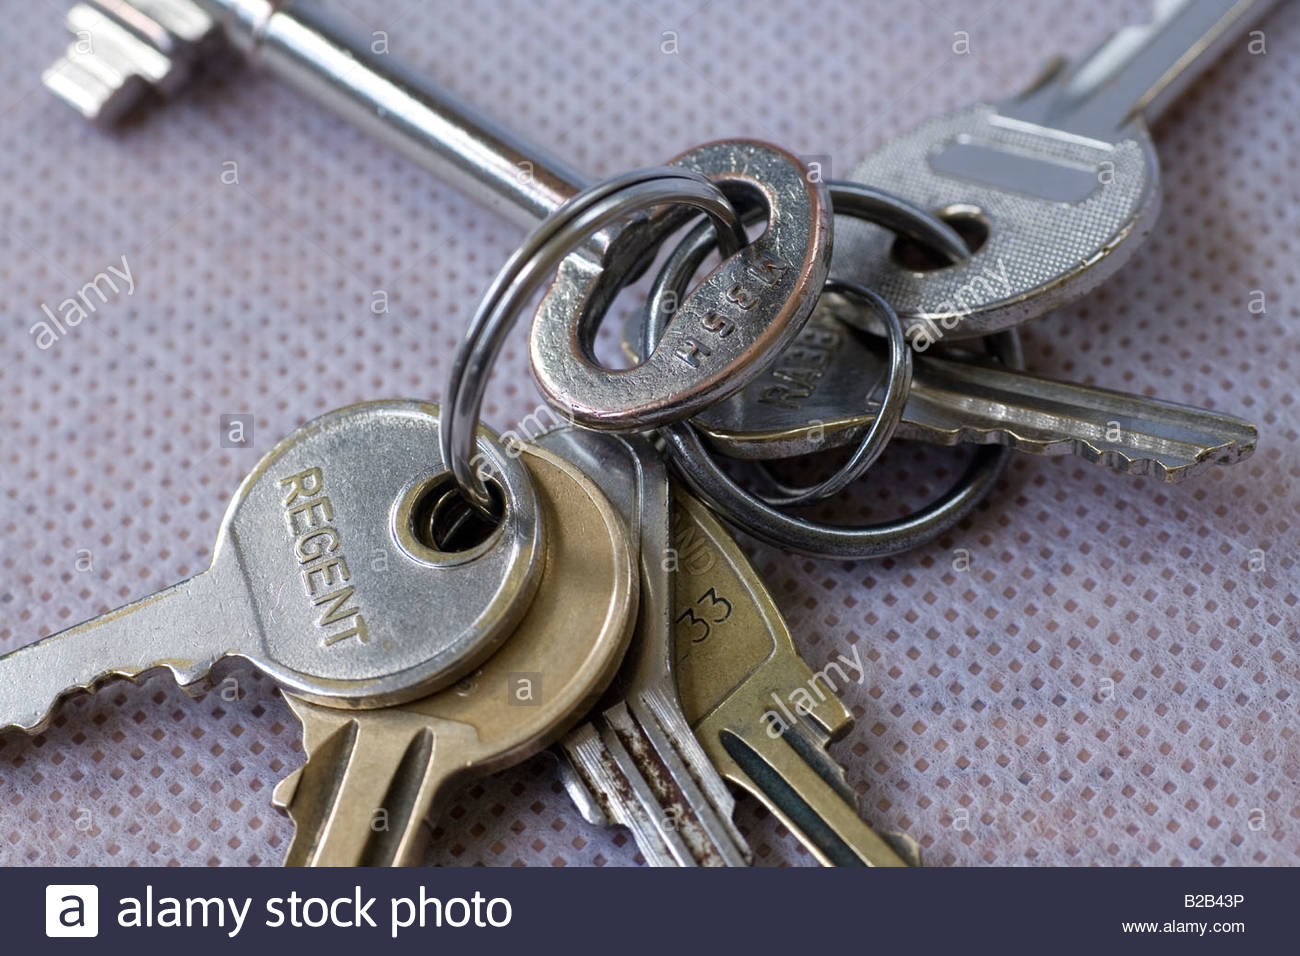key: (1, 1, 1300, 867)
